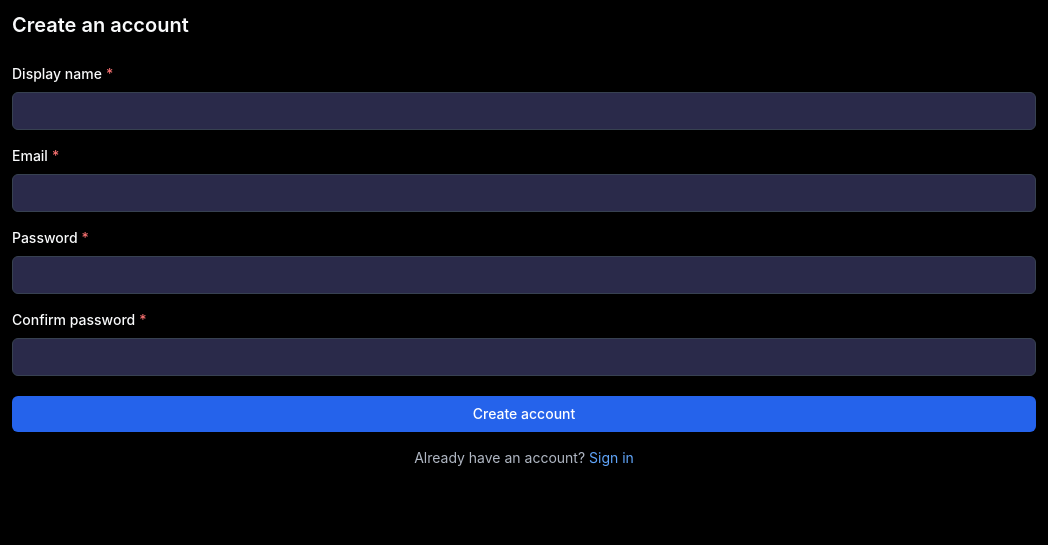
Test: RegisterPage › shows an error Alert when signUp returns an error
Type "Jane" into the field labelled "Display name*".
click(524, 110); type("Jane")  # box [12,92,1036,130]
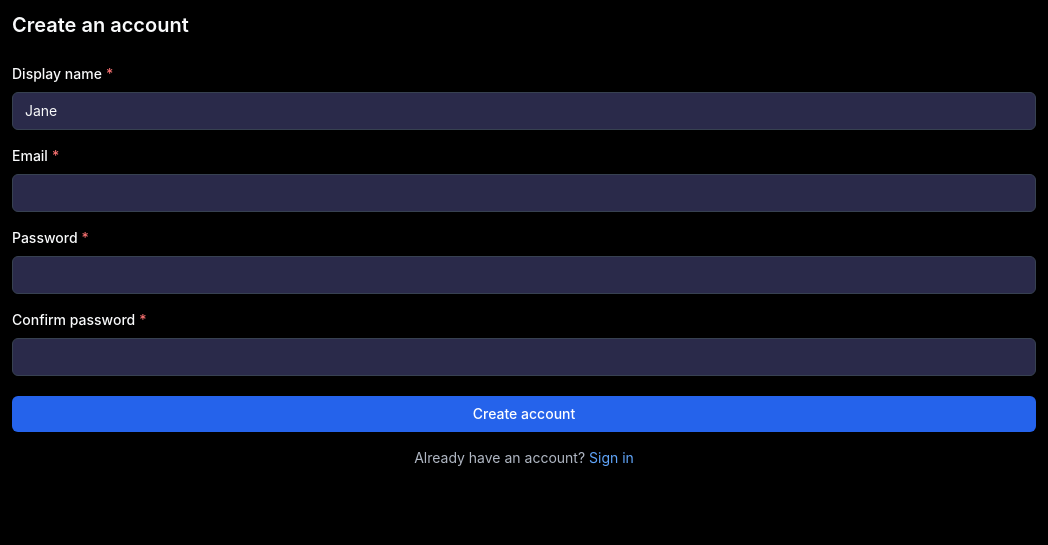
Type "existing@example.com" into the field labelled "Email*".
click(524, 192); type("existing@example.com")  # box [12,174,1036,212]
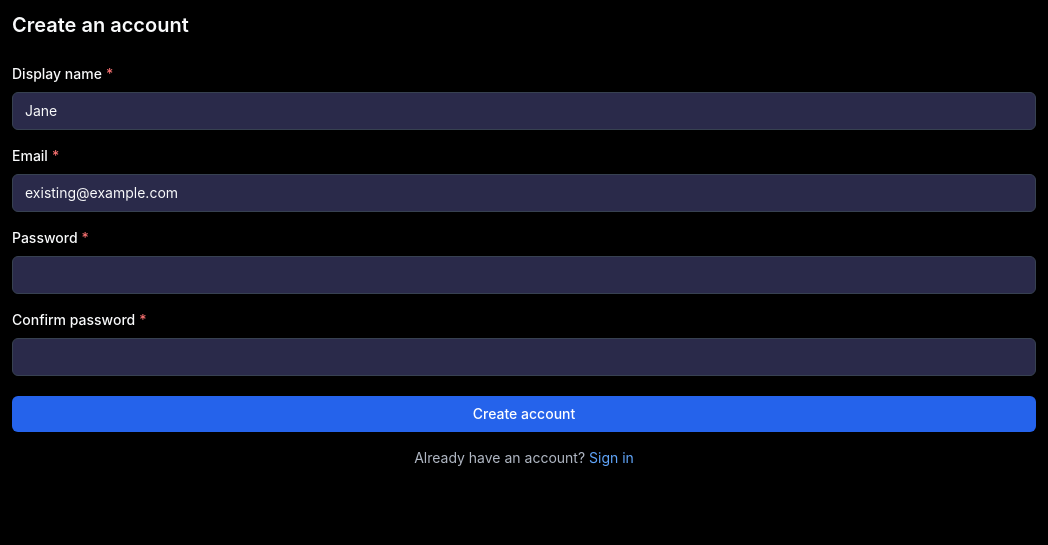
Type "password123" into the password field labelled "Password*".
click(524, 274); type("password123")  # box [12,256,1036,294]
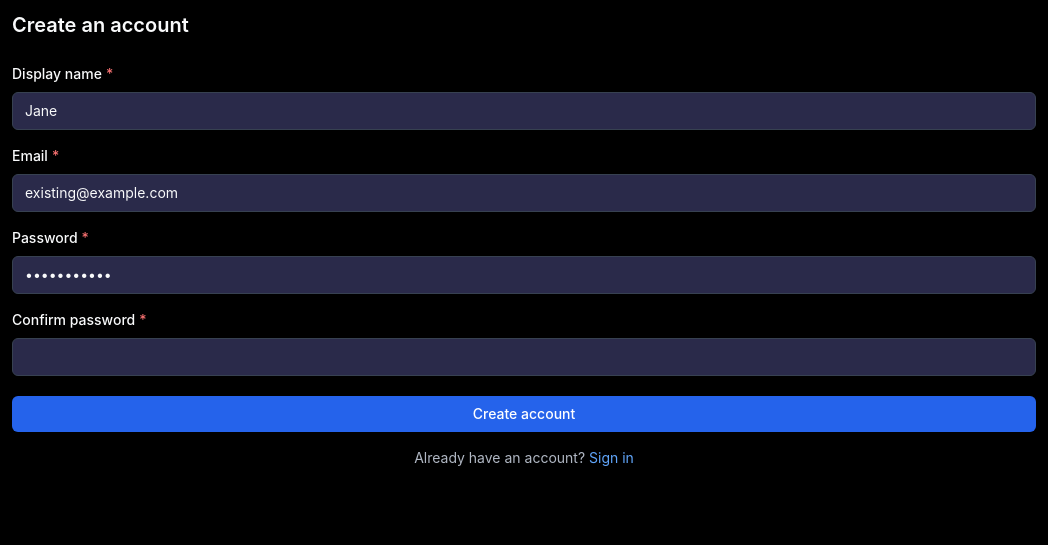
Type "password123" into the password field labelled "Confirm password*".
click(524, 356); type("password123")  # box [12,338,1036,376]
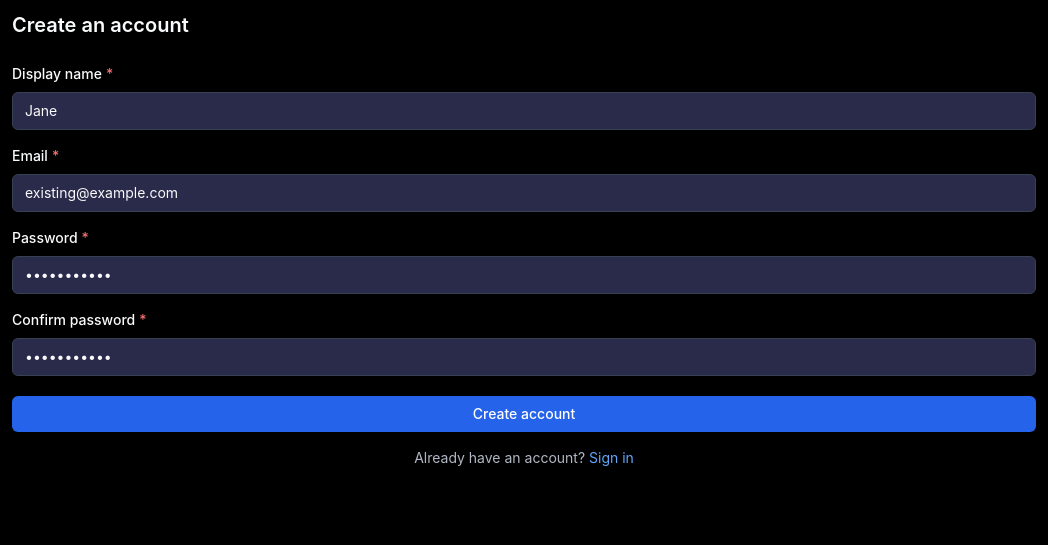
Click the button "Create account".
click(524, 414)  # box [12,396,1036,432]
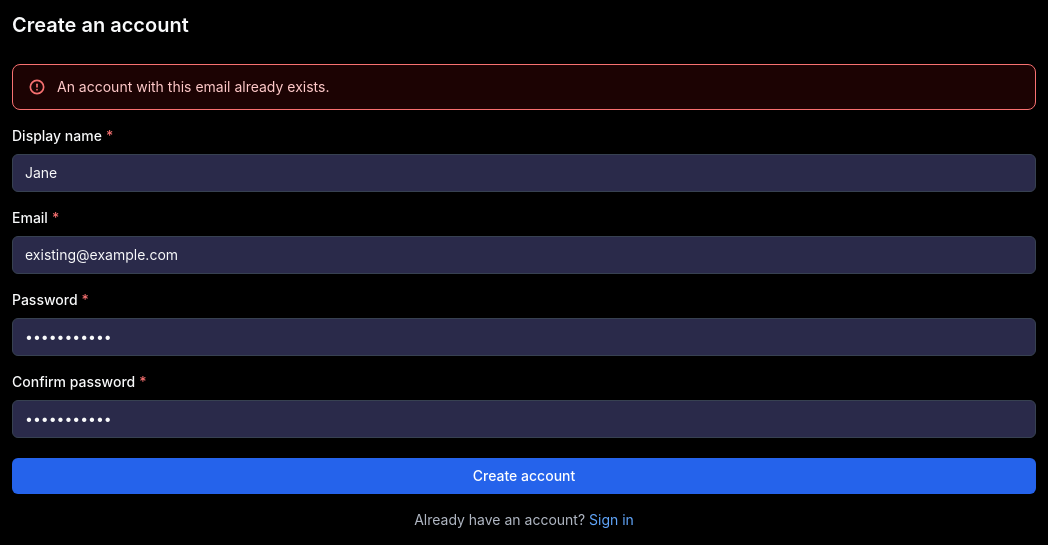
Expected: the message "An account with this email already exists." is shown, [12,64,1036,110]
Expected: the text "An account with this email already exists." is shown, [57,78,330,94]
